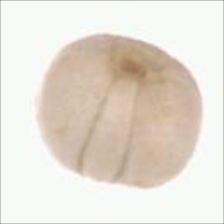L5: (75, 79, 143, 181), (105, 34, 175, 86)
L6: (35, 34, 205, 191)
